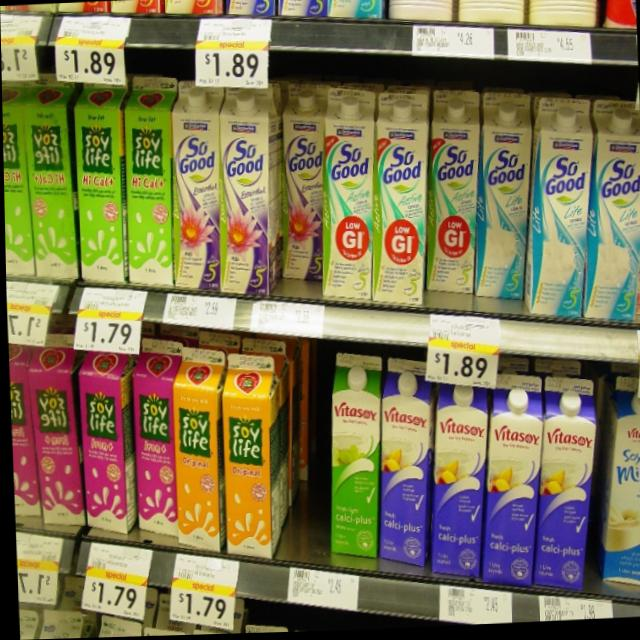q262: (520, 131, 595, 327), (474, 127, 533, 318), (594, 127, 640, 324)
